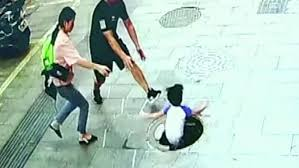Manhole-Closed: (176, 47, 229, 77), (160, 5, 205, 27), (256, 1, 299, 17)
Manhole-Open: (142, 109, 210, 153)
human: (40, 3, 97, 147), (88, 1, 164, 102), (161, 84, 187, 149)
